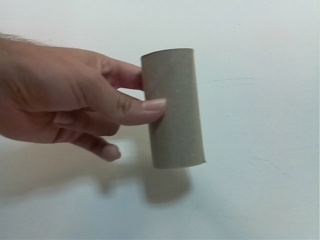rollo papel: (138, 47, 210, 170)
